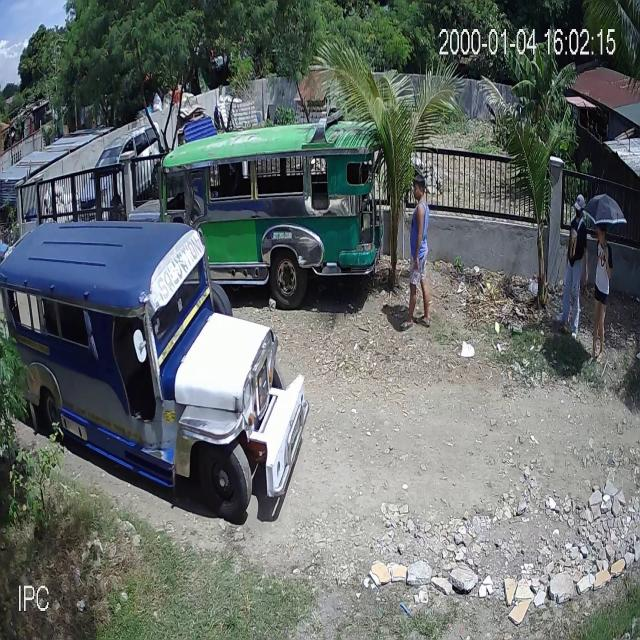walking: (396, 169, 436, 332), (556, 194, 588, 342), (587, 221, 614, 366)
